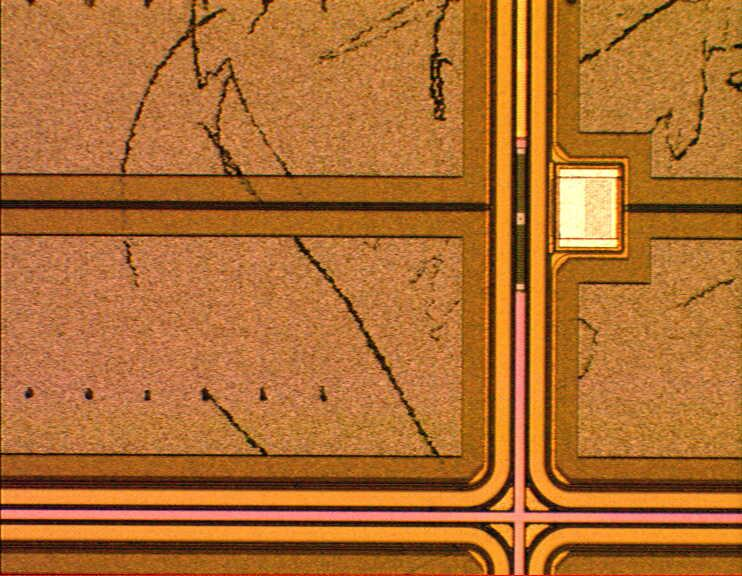SCRATCH: (111, 1, 742, 576)
